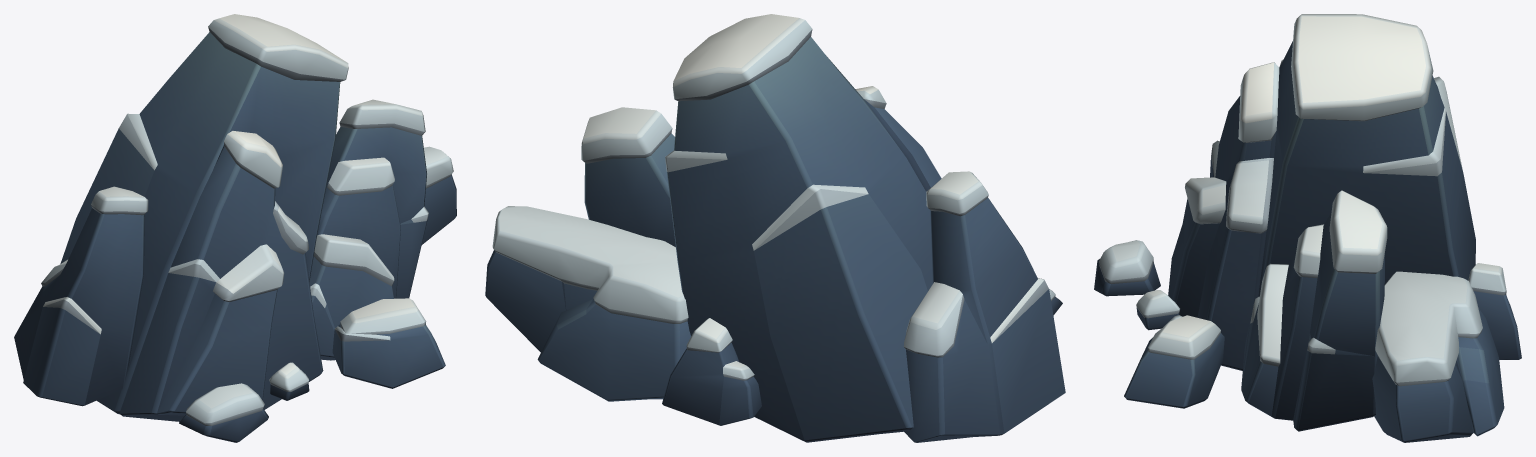
File: rock_group_large_snow.fbx
3 views of the same model, side by side, from view 1: azimuth 30°, elevation 25°; view 2: azimuth 150°, elevation 25°; view 3: azimuth 270°, elevation 25° (orthographic). The views are drawn at different scales.
Parts seen in each view (by area): view 1: rock_arrangement_large_snow; view 2: rock_arrangement_large_snow; view 3: rock_arrangement_large_snow.
Part boxes in pixels (box(x1,y1,x2,y2)): rock_arrangement_large_snow: box(14, 14, 456, 442); rock_arrangement_large_snow: box(485, 14, 1065, 442); rock_arrangement_large_snow: box(1094, 14, 1521, 442).
Bounding box in the file's own units: 1599 × 1083 × 1107.
